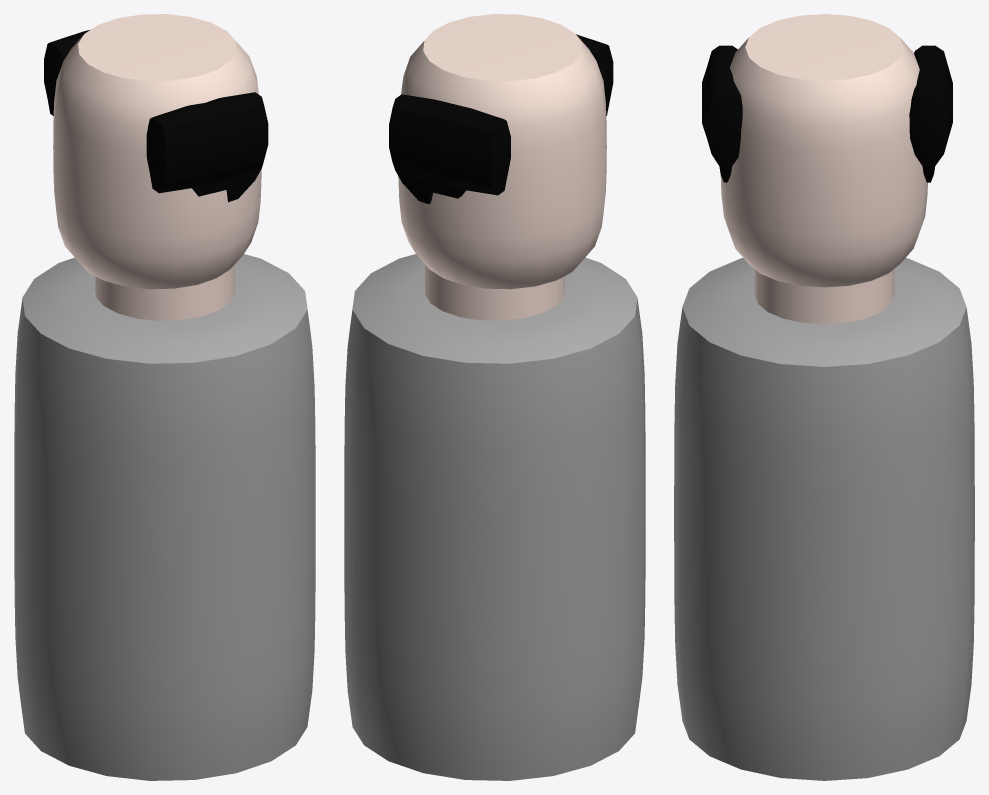
File: hair4.fbx
3 views of the same model, side by side, from view 1: azimuth 30°, elevation 25°; view 2: azimuth 150°, elevation 25°; view 3: azimuth 270°, elevation 25° (orthographic).
Parts seen in each view (by area): view 1: pCylinder8, pCylinder9, pCube5, pCylinder7, pCube4; view 2: pCylinder8, pCylinder9, pCube4, pCylinder7, pCube5; view 3: pCylinder8, pCylinder9, pCylinder7, pCube4, pCube5.
Boxes of the visible parts, x1,y1,x2,y2 form: pCylinder8: (14, 254, 315, 780); pCylinder9: (53, 14, 261, 289); pCube5: (146, 92, 268, 202); pCylinder7: (95, 264, 234, 320); pCube4: (44, 29, 90, 115); pCylinder8: (344, 254, 645, 780); pCylinder9: (398, 14, 606, 289); pCube4: (389, 94, 510, 204); pCylinder7: (425, 264, 564, 320); pCube5: (576, 34, 613, 115); pCylinder8: (674, 258, 974, 780); pCylinder9: (720, 14, 927, 287); pCylinder7: (754, 269, 894, 324); pCube4: (909, 45, 952, 182); pCube5: (702, 45, 742, 182).
Size of the model in its own units: 2.03 by 5.09 by 2.03.
